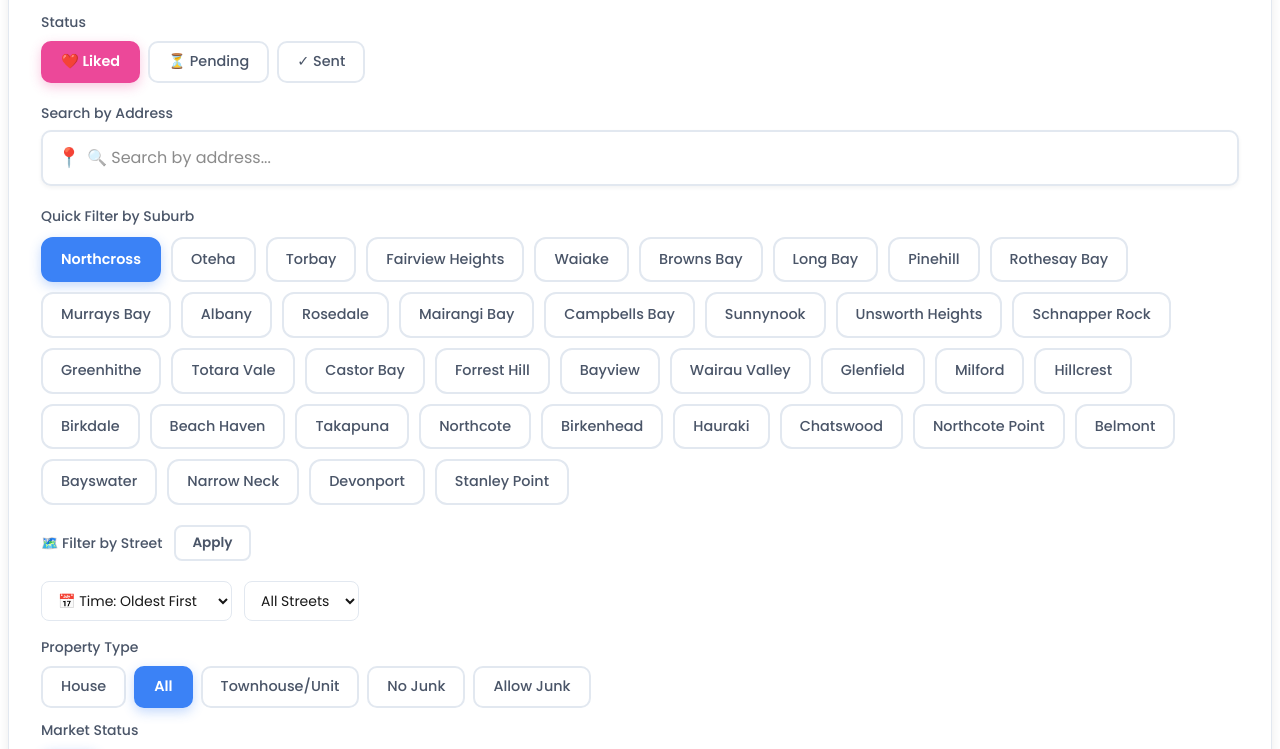
Scenario: Outreach page › uses selected addresses when a card-level Send Report button is clicked
Step 1. Click the button "⏳ Pending" → [209, 62], box [148,41,269,83]
(page scrolled)
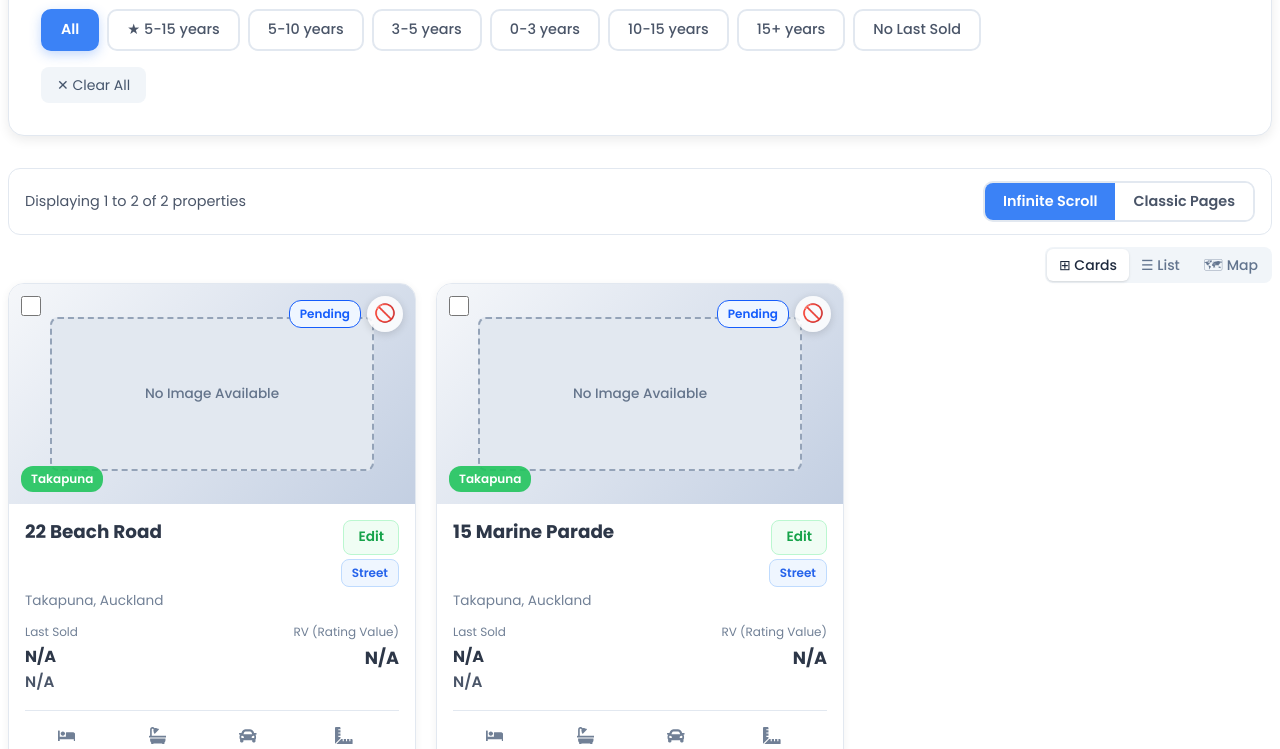
Step 2. Click the 1st checkbox → [31, 306], box [21,296,41,316]
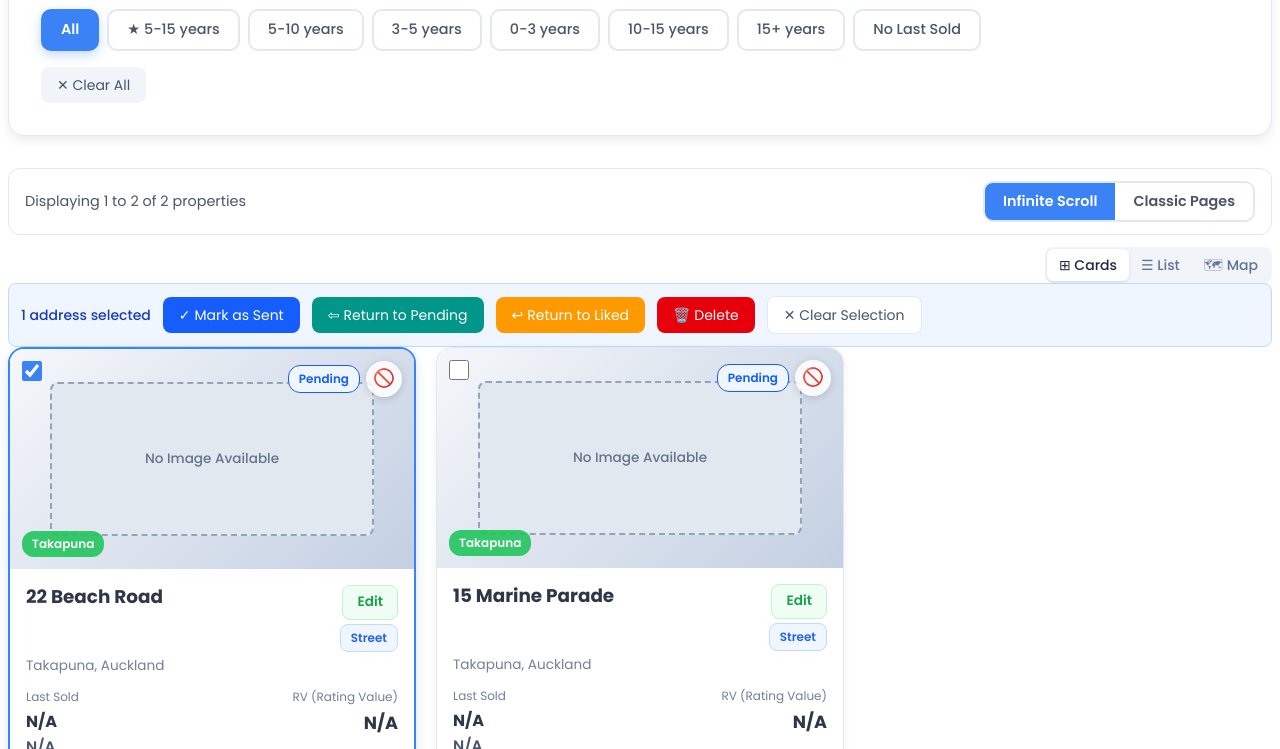
Step 3. Click the 2nd checkbox → [459, 370], box [449,360,469,380]
(page scrolled)
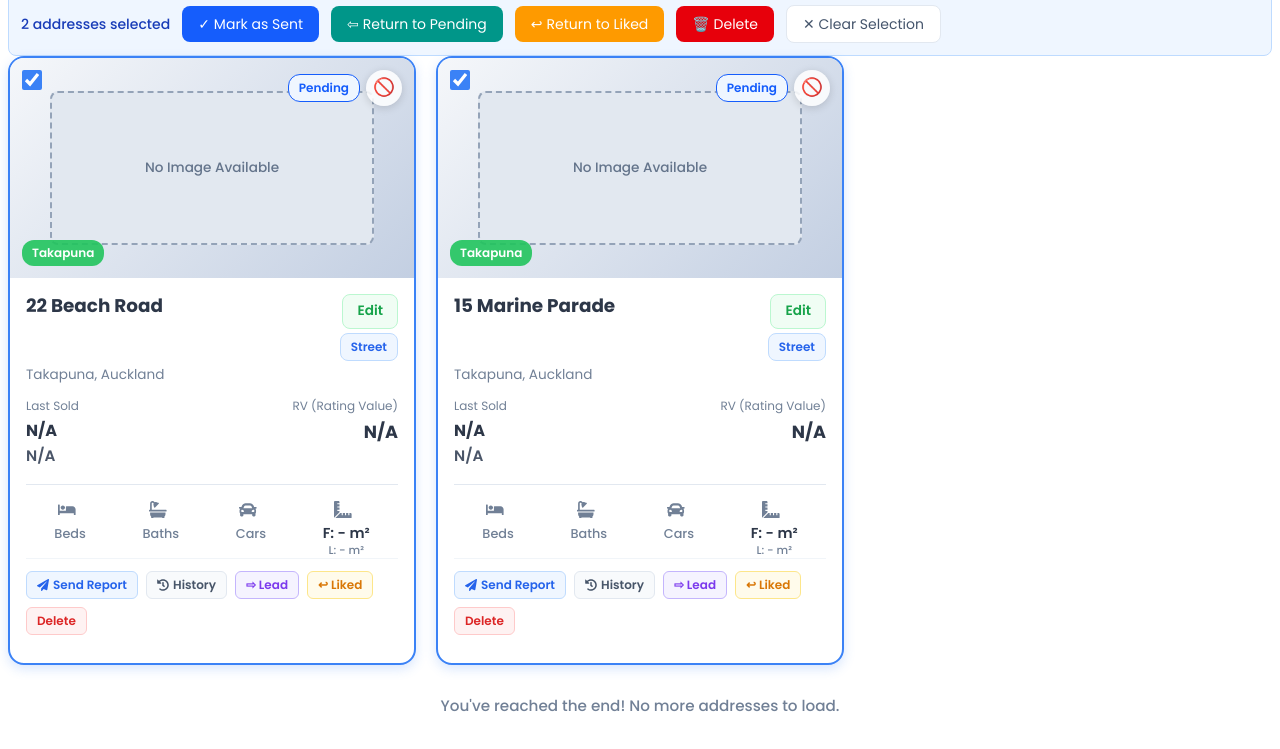
Step 4. Click the button "Send Report" below "22 Beach Road" → [82, 585], box [26,571,138,599]
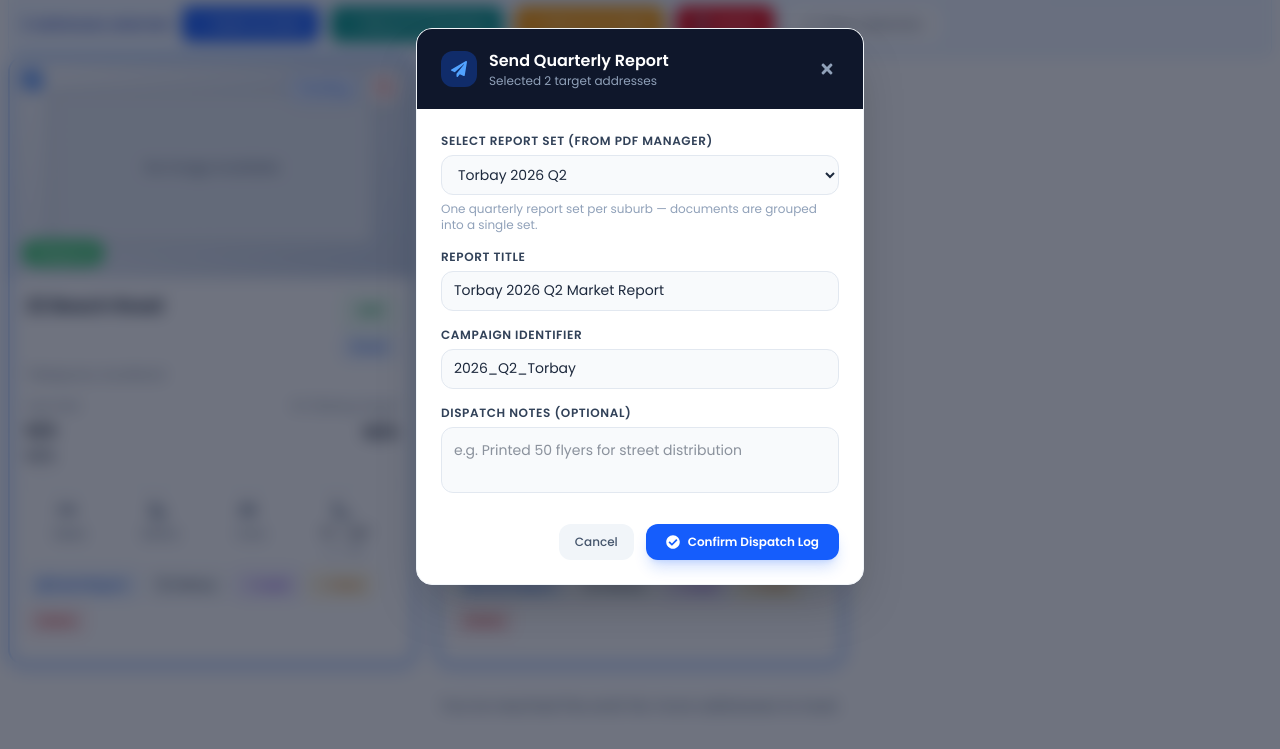
Expected: the text "Selected 2 target addresses" is shown, [489,72,669,88]
